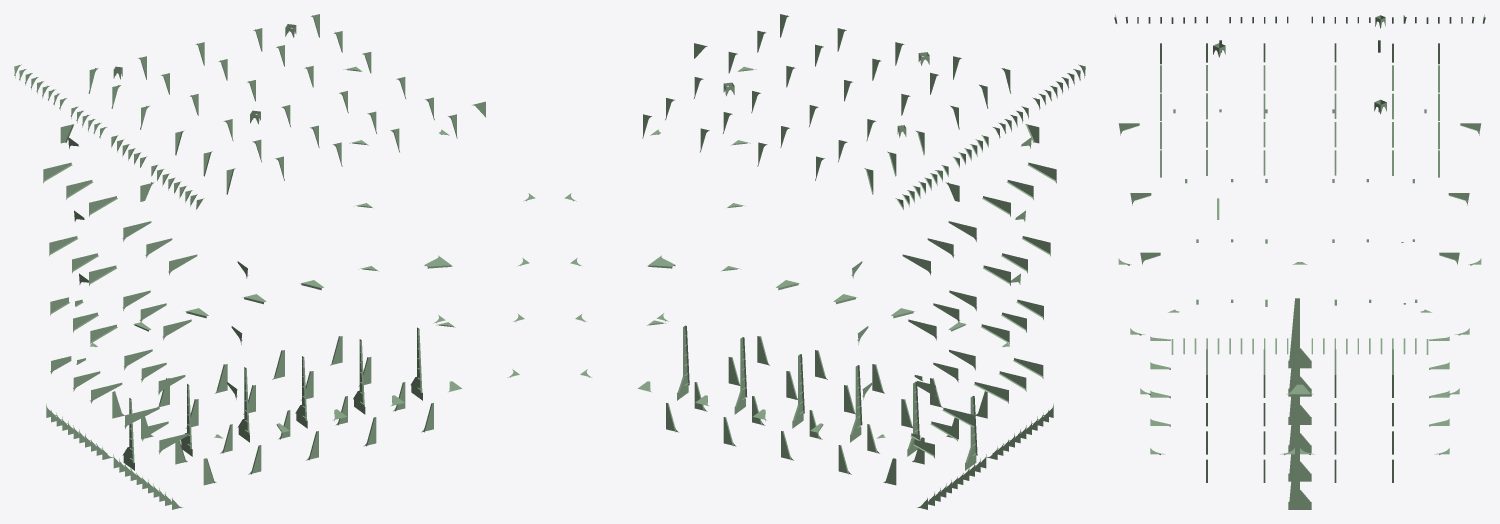
The model's file is NO_4_CENTRAL_CARGO_OIL_TK.glb.
3 renders of one model, left to right at view 1: azimuth 30°, elevation 25°; view 2: azimuth 150°, elevation 25°; view 3: azimuth 270°, elevation 25°, orthographic.
Parts seen in each view (by area): view 1: no part large enough to name; view 2: no part large enough to name; view 3: PL_CenterBHDBracketxNo4CenterTank_012001-12.5_NVA_1993.
Part boxes in pixels (bbox=[...]): PL_CenterBHDBracketxNo4CenterTank_012001-12.5_NVA_1993: bbox=[1288, 440, 1299, 509].
Size of the model in its own units: 31.44 by 31.5 by 29.05.
